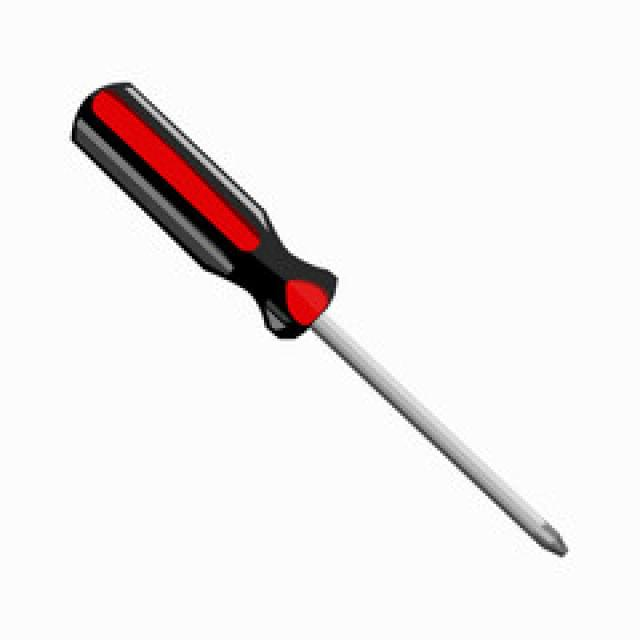screwdriver: (69, 78, 568, 558)
